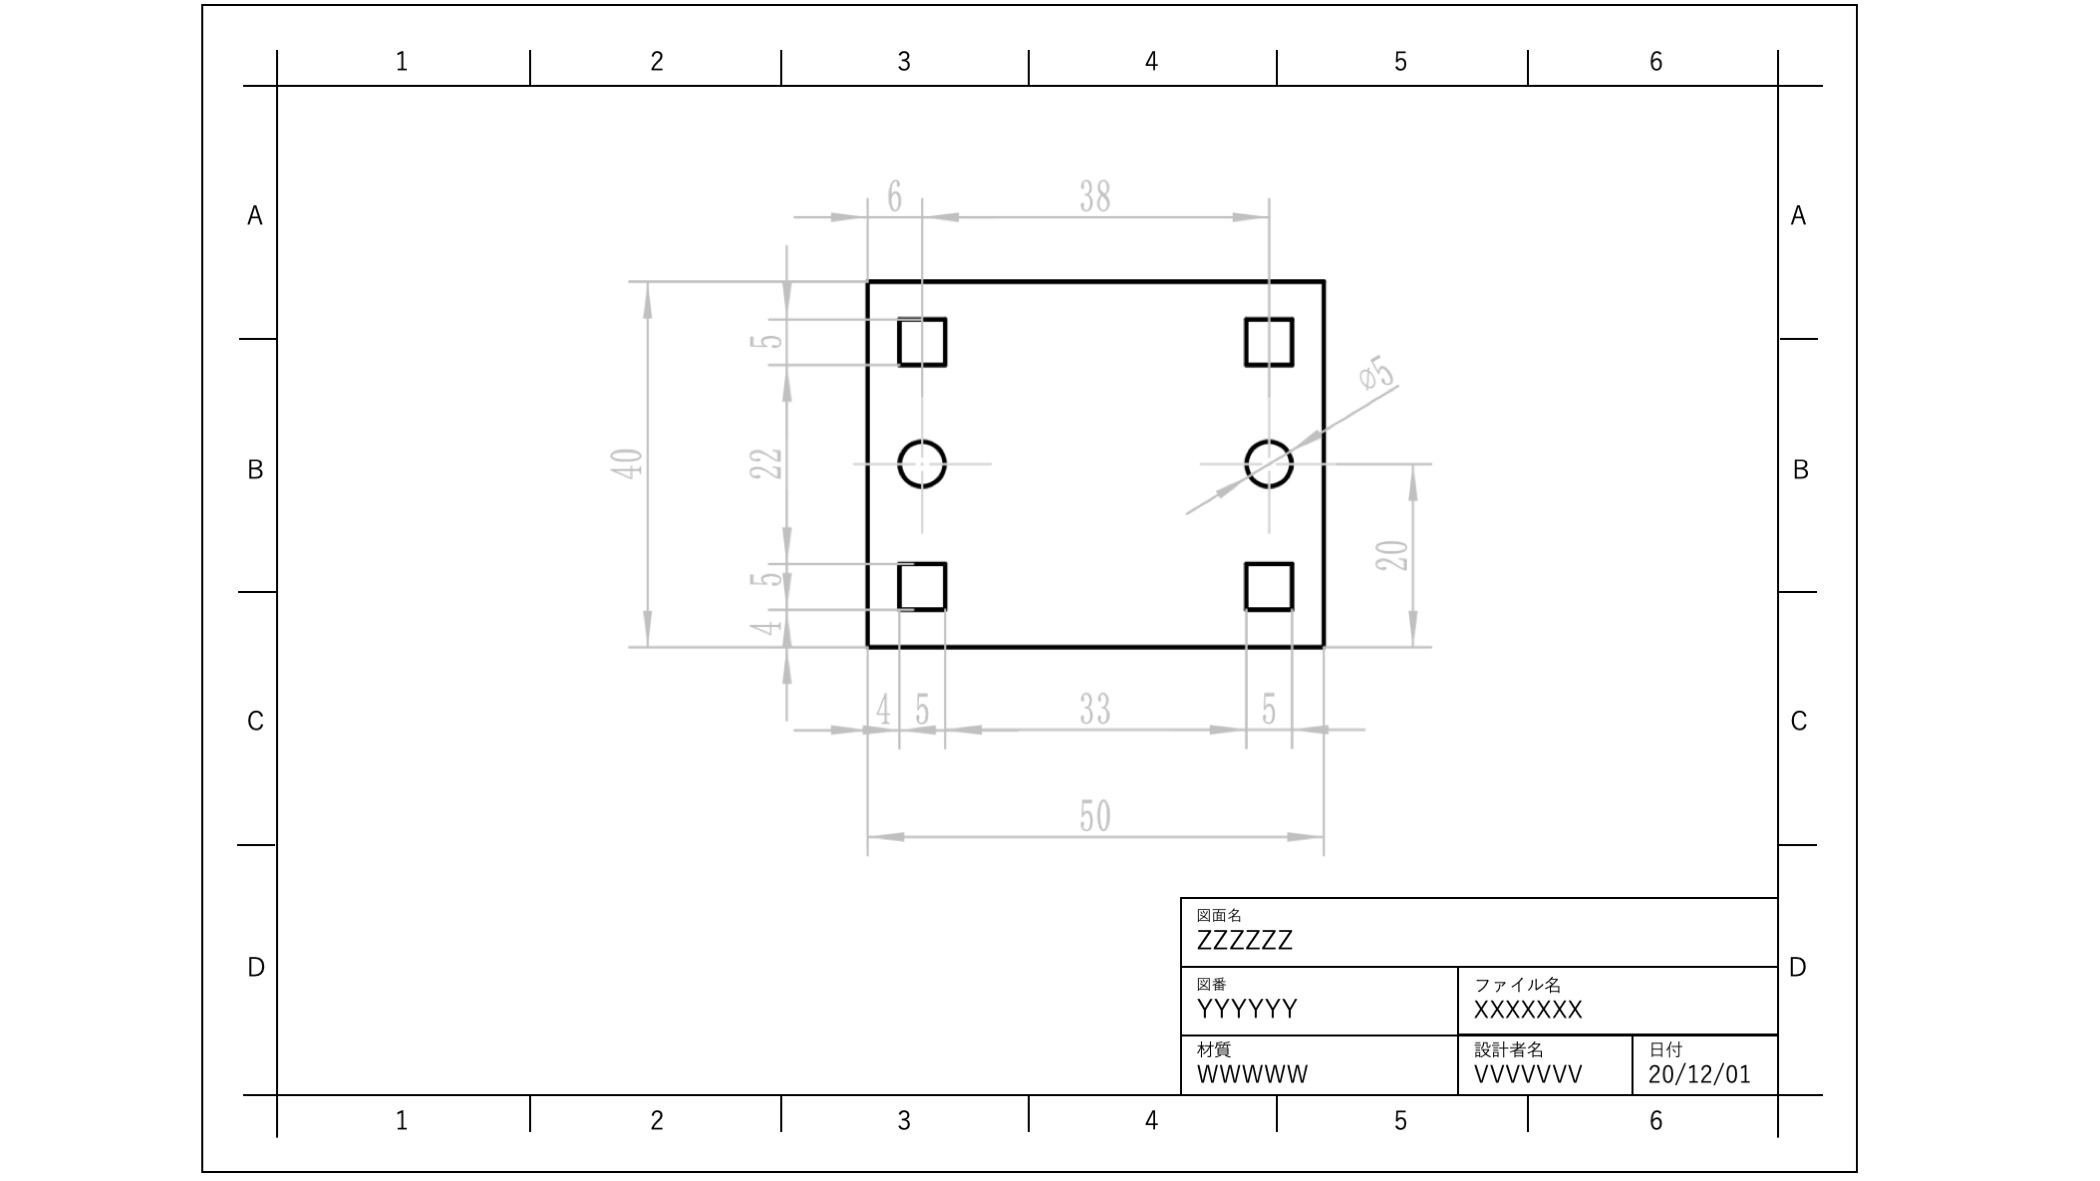circle: (1239, 435, 1297, 495), (893, 433, 953, 489)
rectangle: (886, 306, 959, 373), (1237, 554, 1302, 620), (1236, 311, 1304, 372), (894, 552, 950, 619)
